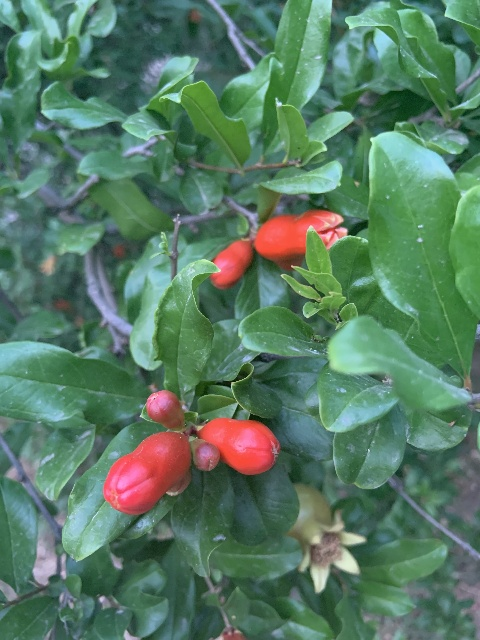bud: (103, 430, 191, 516), (197, 417, 280, 475), (209, 239, 253, 289), (146, 389, 185, 430), (190, 439, 220, 472)
flower: (255, 209, 349, 267)
mid-growth: (284, 482, 367, 593)
